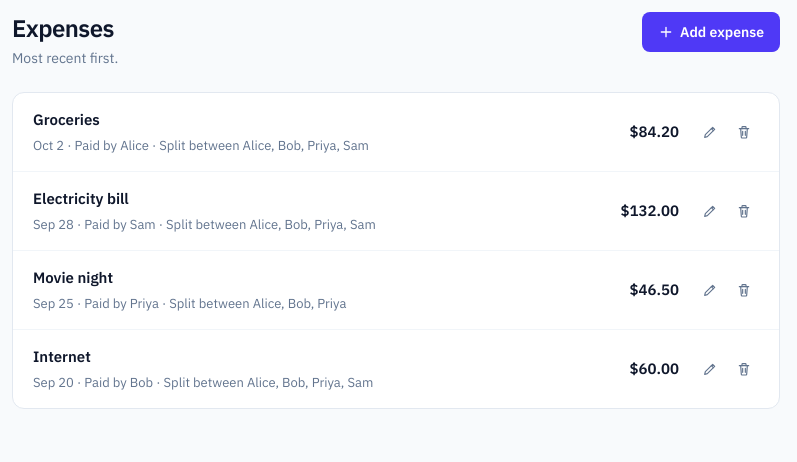
ExpensesView › a failed DELETE /expenses/{id} (404) leaves the row in place
The image size is (797, 462).
Expected: the element with test id "expense-row-1" is shown, [13,93,779,172]
Click the button named "Delete Groceries".
click(744, 132)  # box [729,117,759,147]
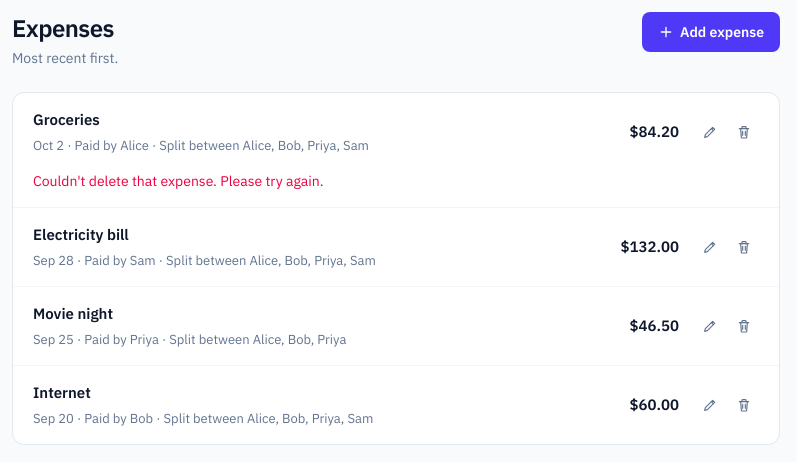
Expected: the element with test id "expense-row-1" is shown, [13,93,779,208]
Expected: the text "Couldn't delete that expense. Please try again." is shown, [33,172,324,190]
